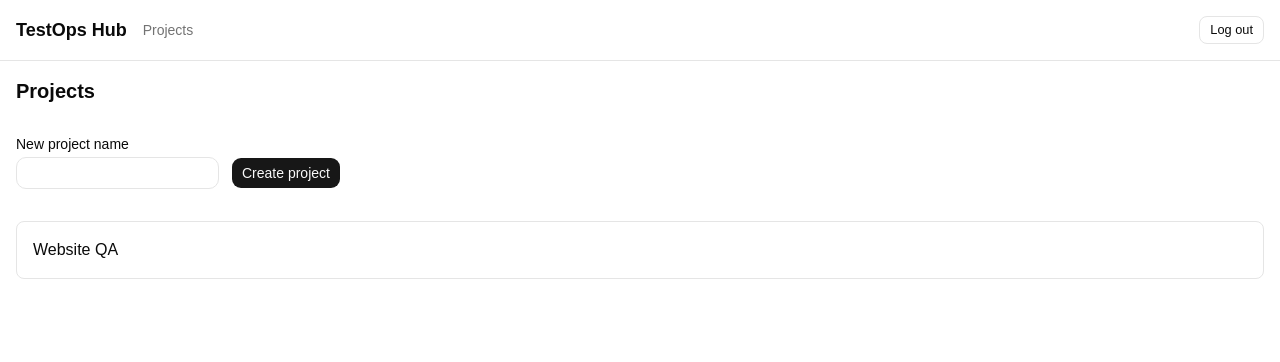
project creation › creates a project and shows it in the list without a manual refresh
Expected: the link "Website QA" is shown, [16,221,1264,279]
Type "New Project" into the field labelled "New project name" at (118, 173), box [16,157,219,189]
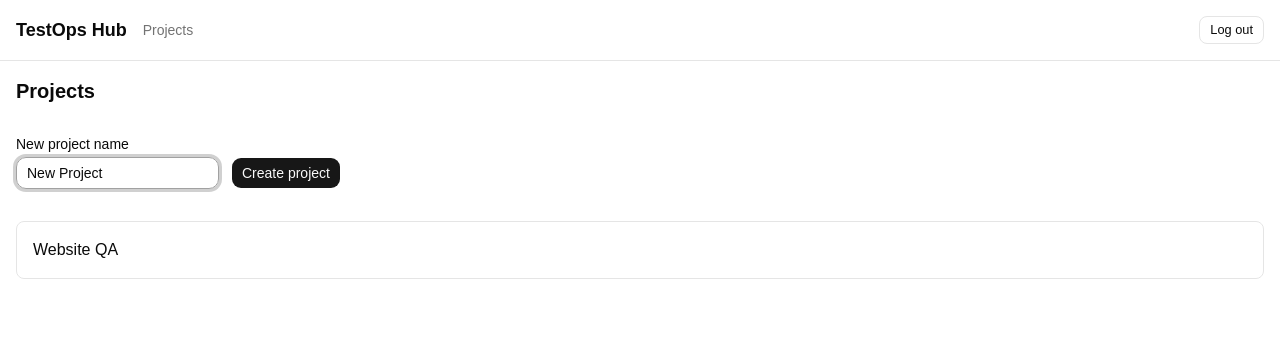
Click the button "Create project" at (286, 173), box [231,157,341,189]
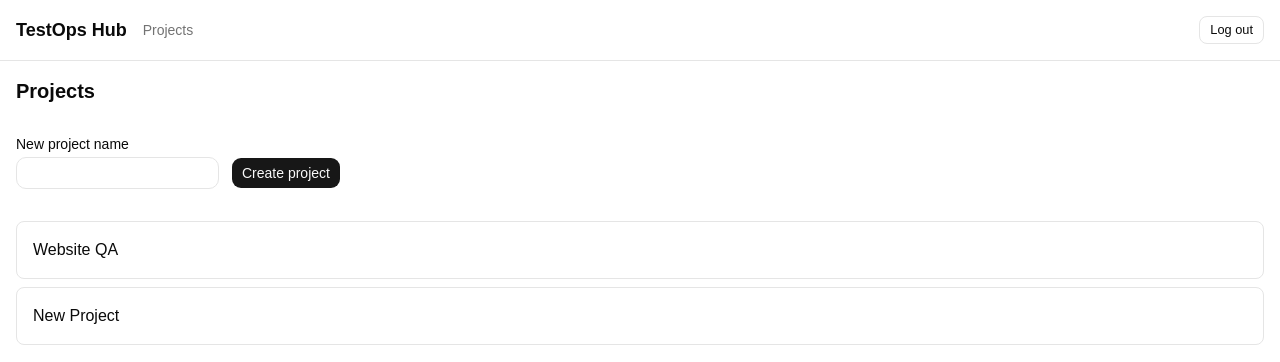
Result: the link "New Project" is shown at [16,287,1264,345]
Result: the field labelled "New project name" is empty at [16,157,219,189]
